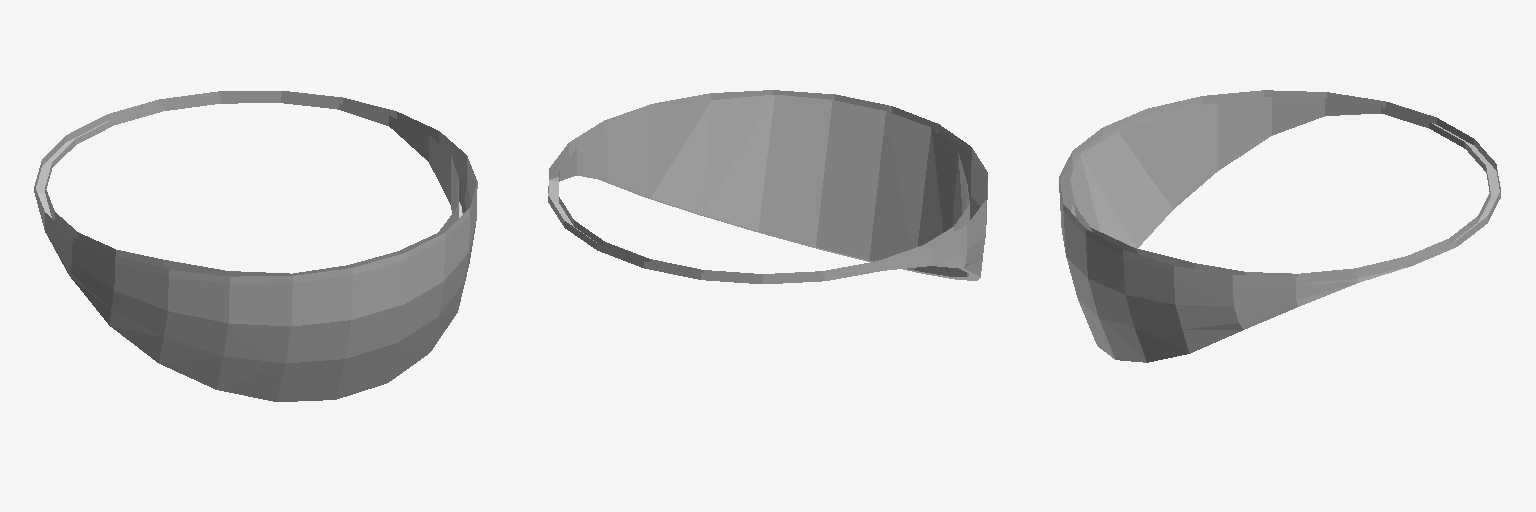
The model's file is RShoulderPitch.obj.
3 renders of one model, left to right at view 1: azimuth 30°, elevation 25°; view 2: azimuth 150°, elevation 25°; view 3: azimuth 270°, elevation 25°, orthographic.
Visible parts, largest first — view 1: root; view 2: root; view 3: root.
Boxes of the visible parts, box(x1,y1,x2,y2) form: root: box(34, 91, 477, 401); root: box(548, 90, 987, 283); root: box(1059, 90, 1500, 362).
Size of the model in its own units: 65.98 by 23.84 by 65.98.